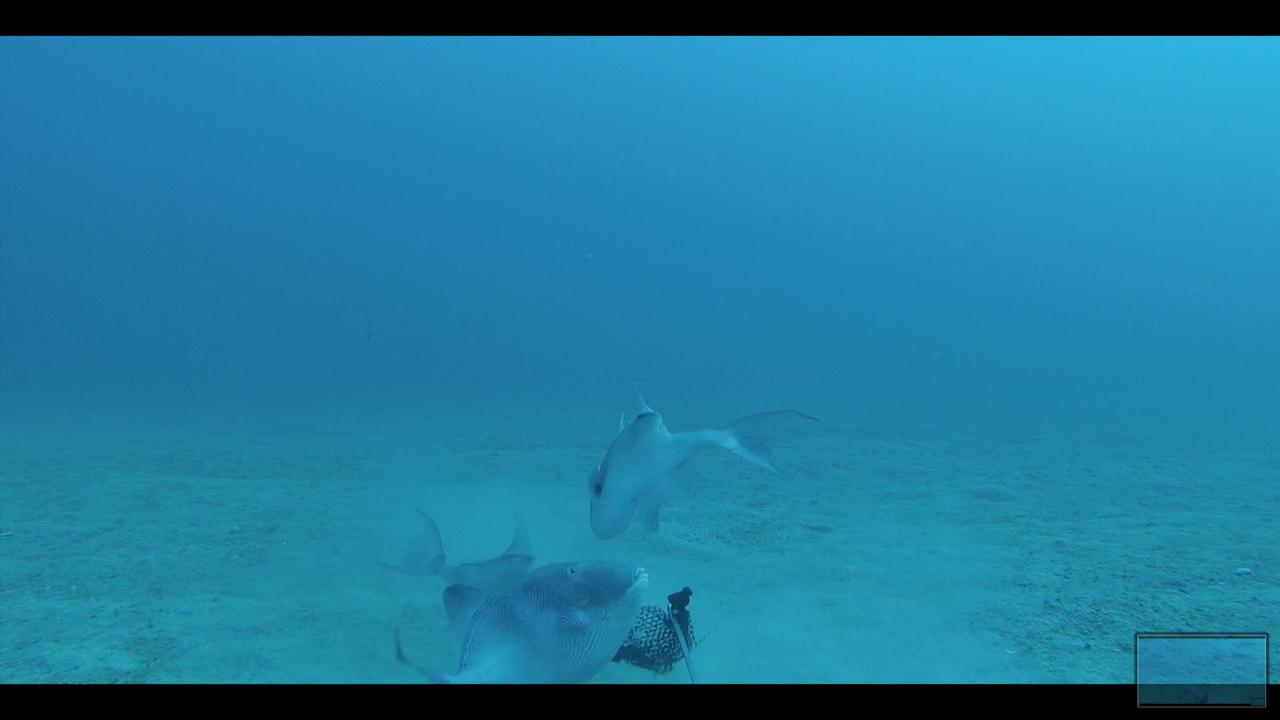balistes: (579, 379, 823, 540), (383, 554, 651, 682)
